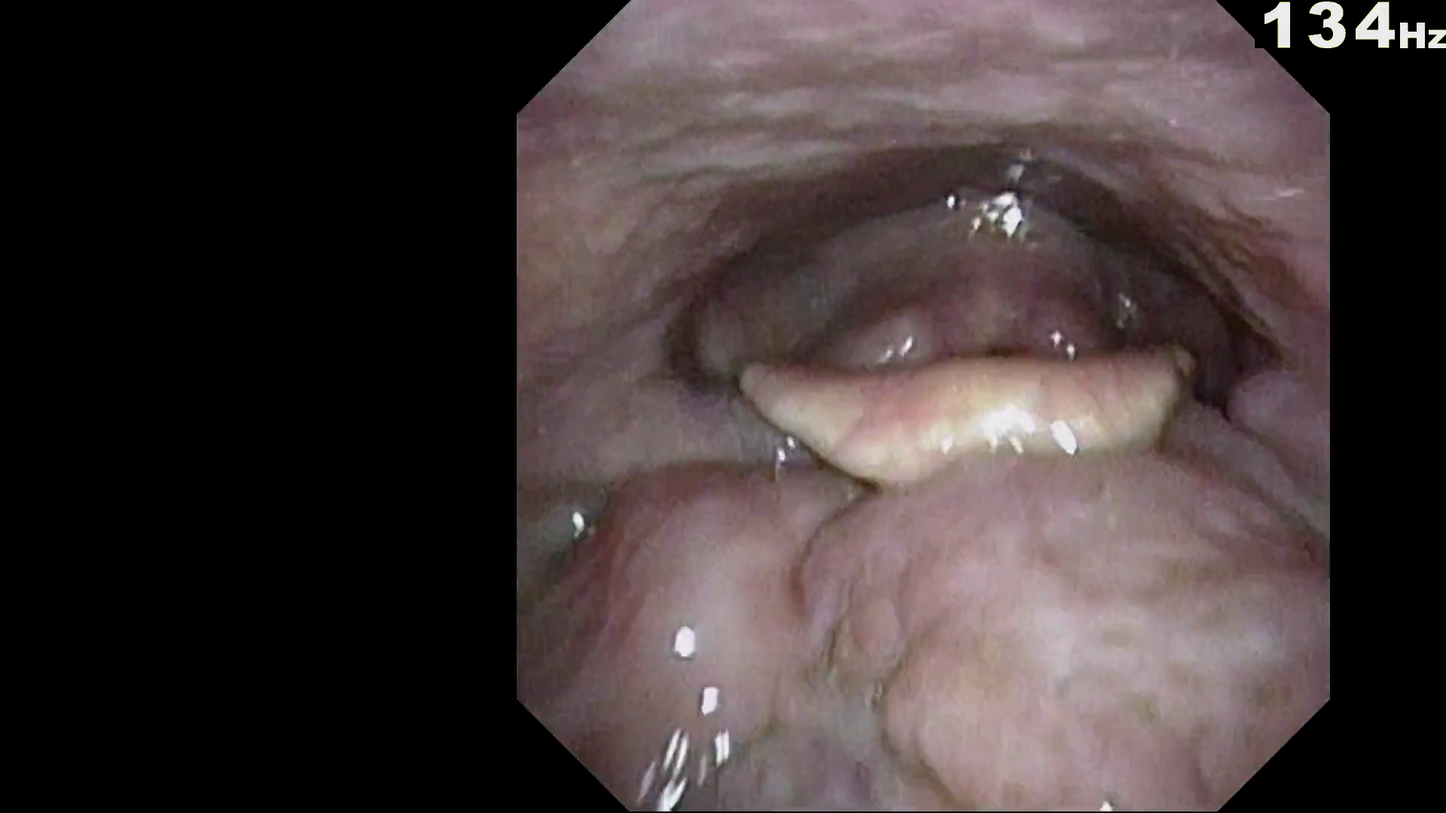epiglottis: (739, 352, 1206, 471)
